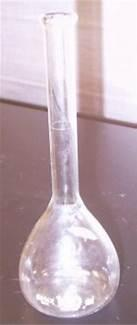Volumetric flask: (26, 8, 126, 314)
